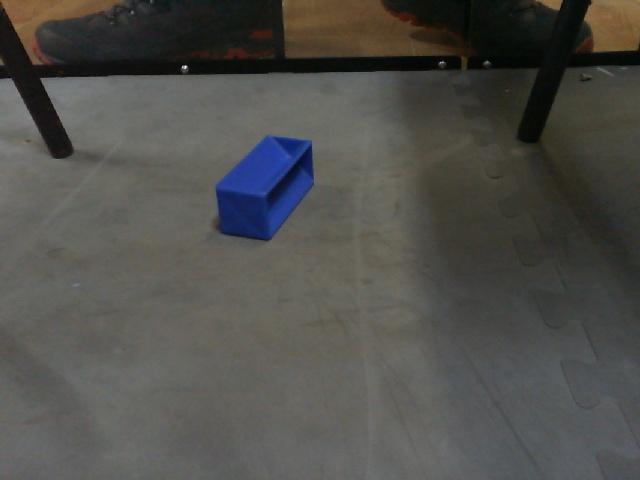BlueSample: (213, 134, 314, 245)
